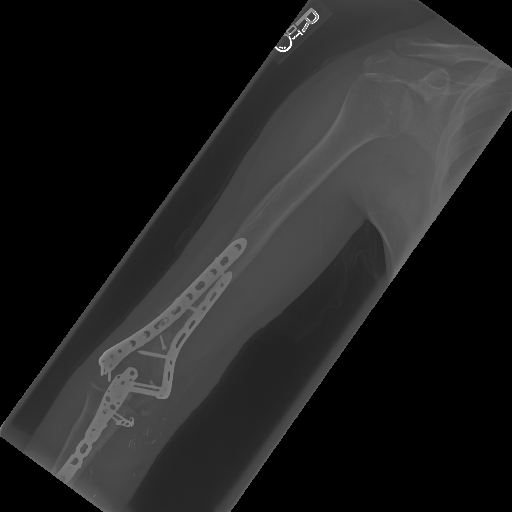implant: (99, 237, 249, 396), (60, 383, 132, 482)
